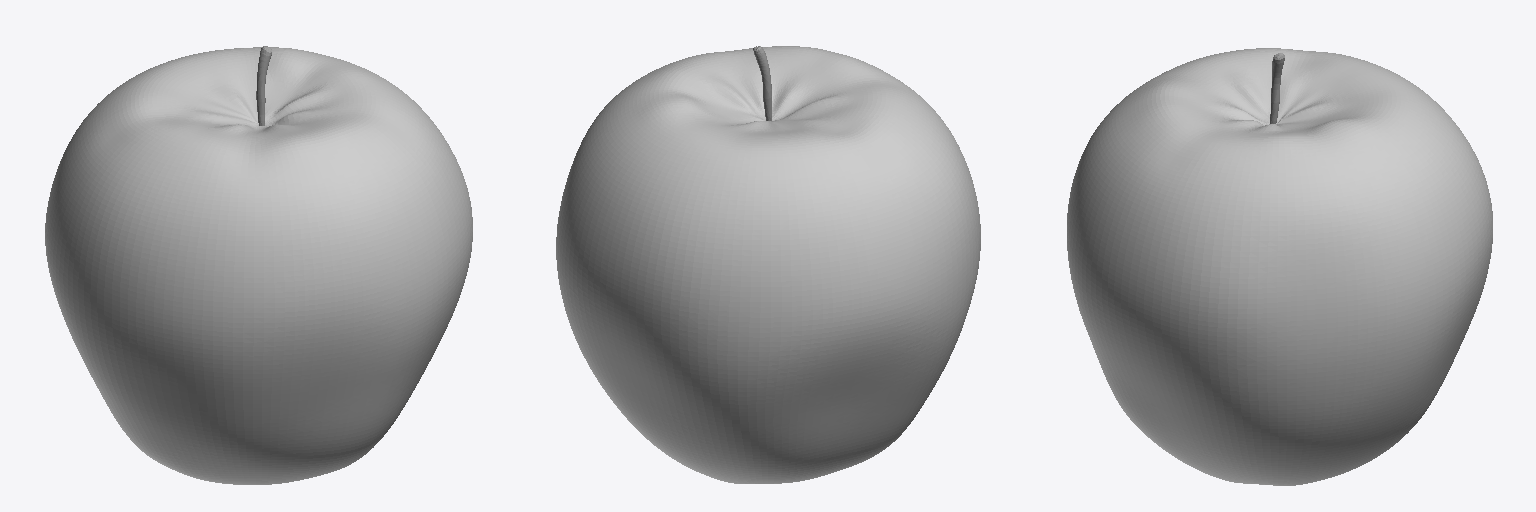
The model's file is Apple.obj.
The picture shows the model from 3 angles: view 1: azimuth 30°, elevation 25°; view 2: azimuth 150°, elevation 25°; view 3: azimuth 270°, elevation 25°; orthographic projection.
Parts seen in each view (by area): view 1: Apple, Cylinder; view 2: Apple, Cylinder; view 3: Apple, Cylinder.
Boxes of the visible parts, x1,y1,x2,y2 form: Apple: [45, 47, 472, 484]; Cylinder: [256, 46, 271, 125]; Apple: [556, 46, 980, 483]; Cylinder: [753, 46, 771, 120]; Apple: [1067, 48, 1492, 485]; Cylinder: [1270, 53, 1284, 123].
Size of the model in its own units: 1.98 by 2.13 by 1.99.